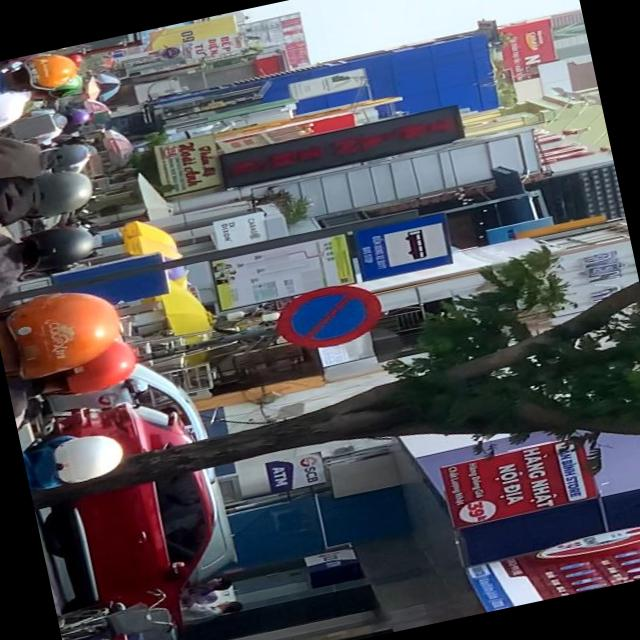P-131a: (273, 278, 387, 356)
